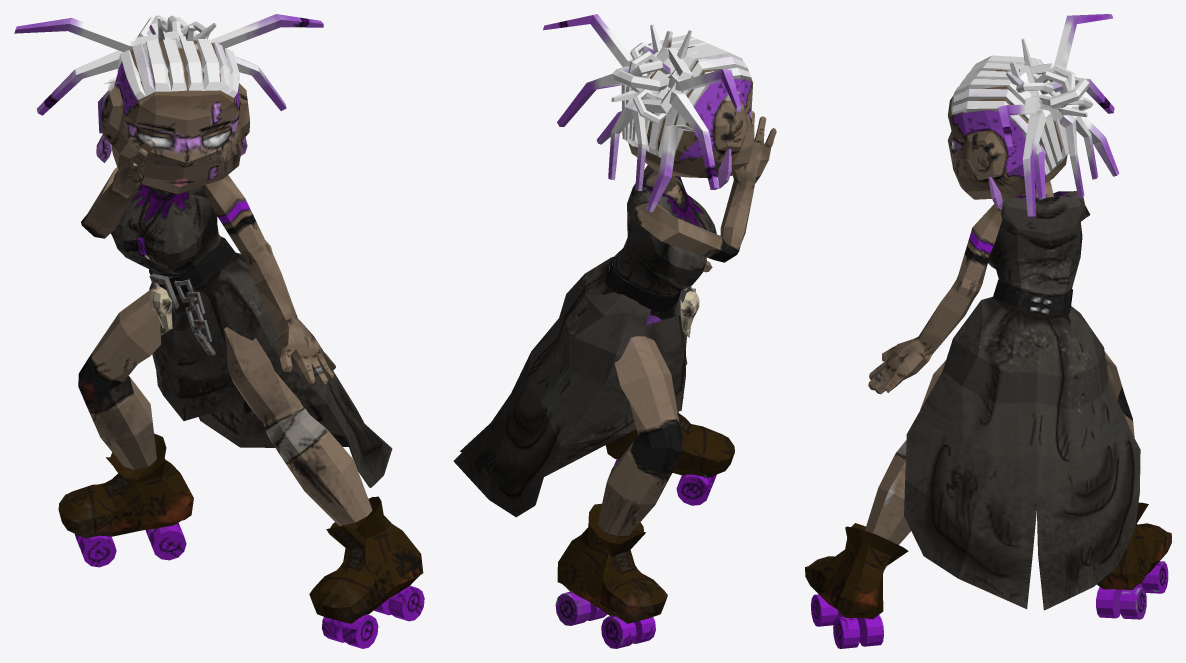
The model's file is bruja_000069.obj.
3 renders of one model, left to right at view 1: azimuth 30°, elevation 25°; view 2: azimuth 150°, elevation 25°; view 3: azimuth 270°, elevation 25°, orthographic. The views are drawn at different scales.
Parts seen in each view (by area): view 1: Bruja_Plane.001; view 2: Bruja_Plane.001; view 3: Bruja_Plane.001.
Boxes of the visible parts, <box> form: Bruja_Plane.001: <box>14,14,424,648</box>; Bruja_Plane.001: <box>453,14,776,648</box>; Bruja_Plane.001: <box>805,14,1171,648</box>.
Size of the model in its own units: 9.17 by 15.42 by 9.25.
